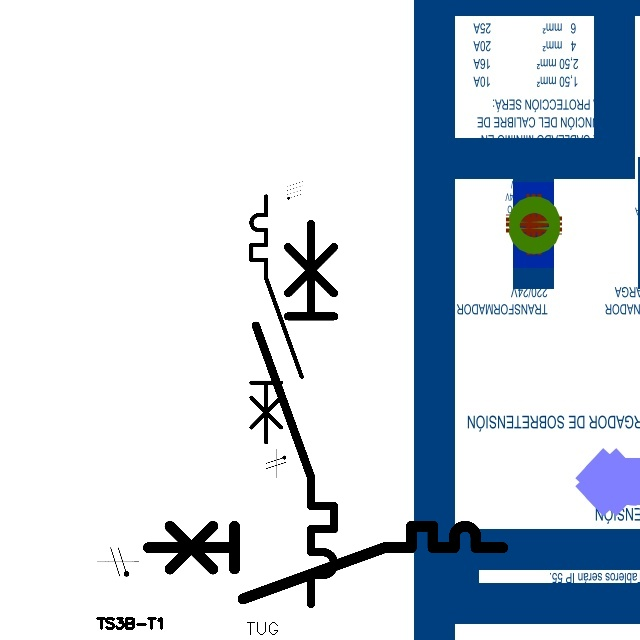interruptor_termomagnetico: (246, 214, 344, 614), (139, 517, 511, 608), (245, 190, 308, 448)
